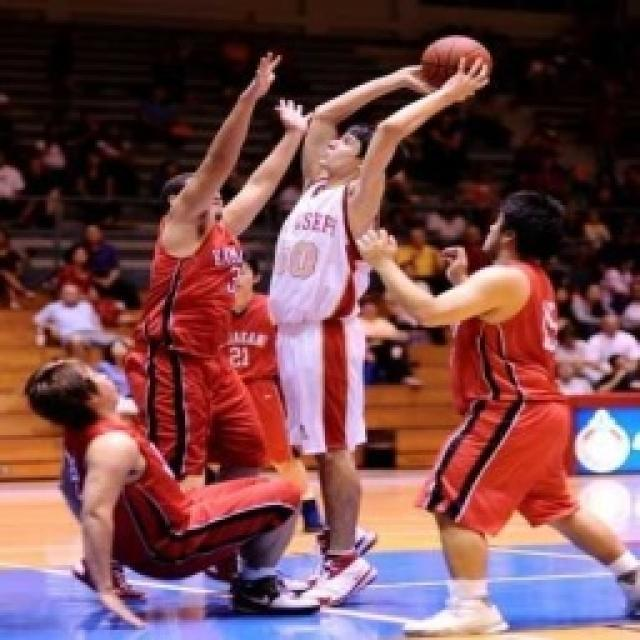rim: (419, 31, 499, 90)
